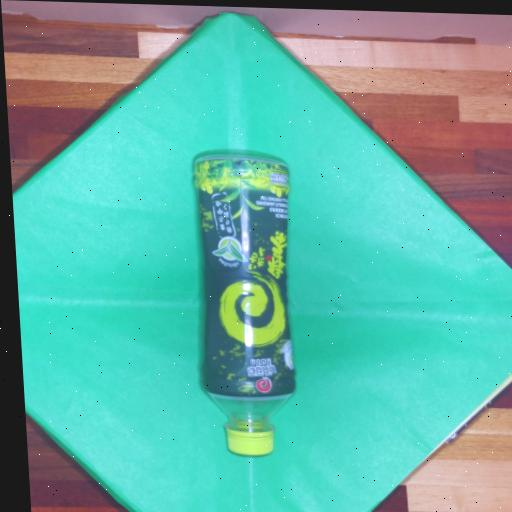bottle: (193, 155, 294, 454)
